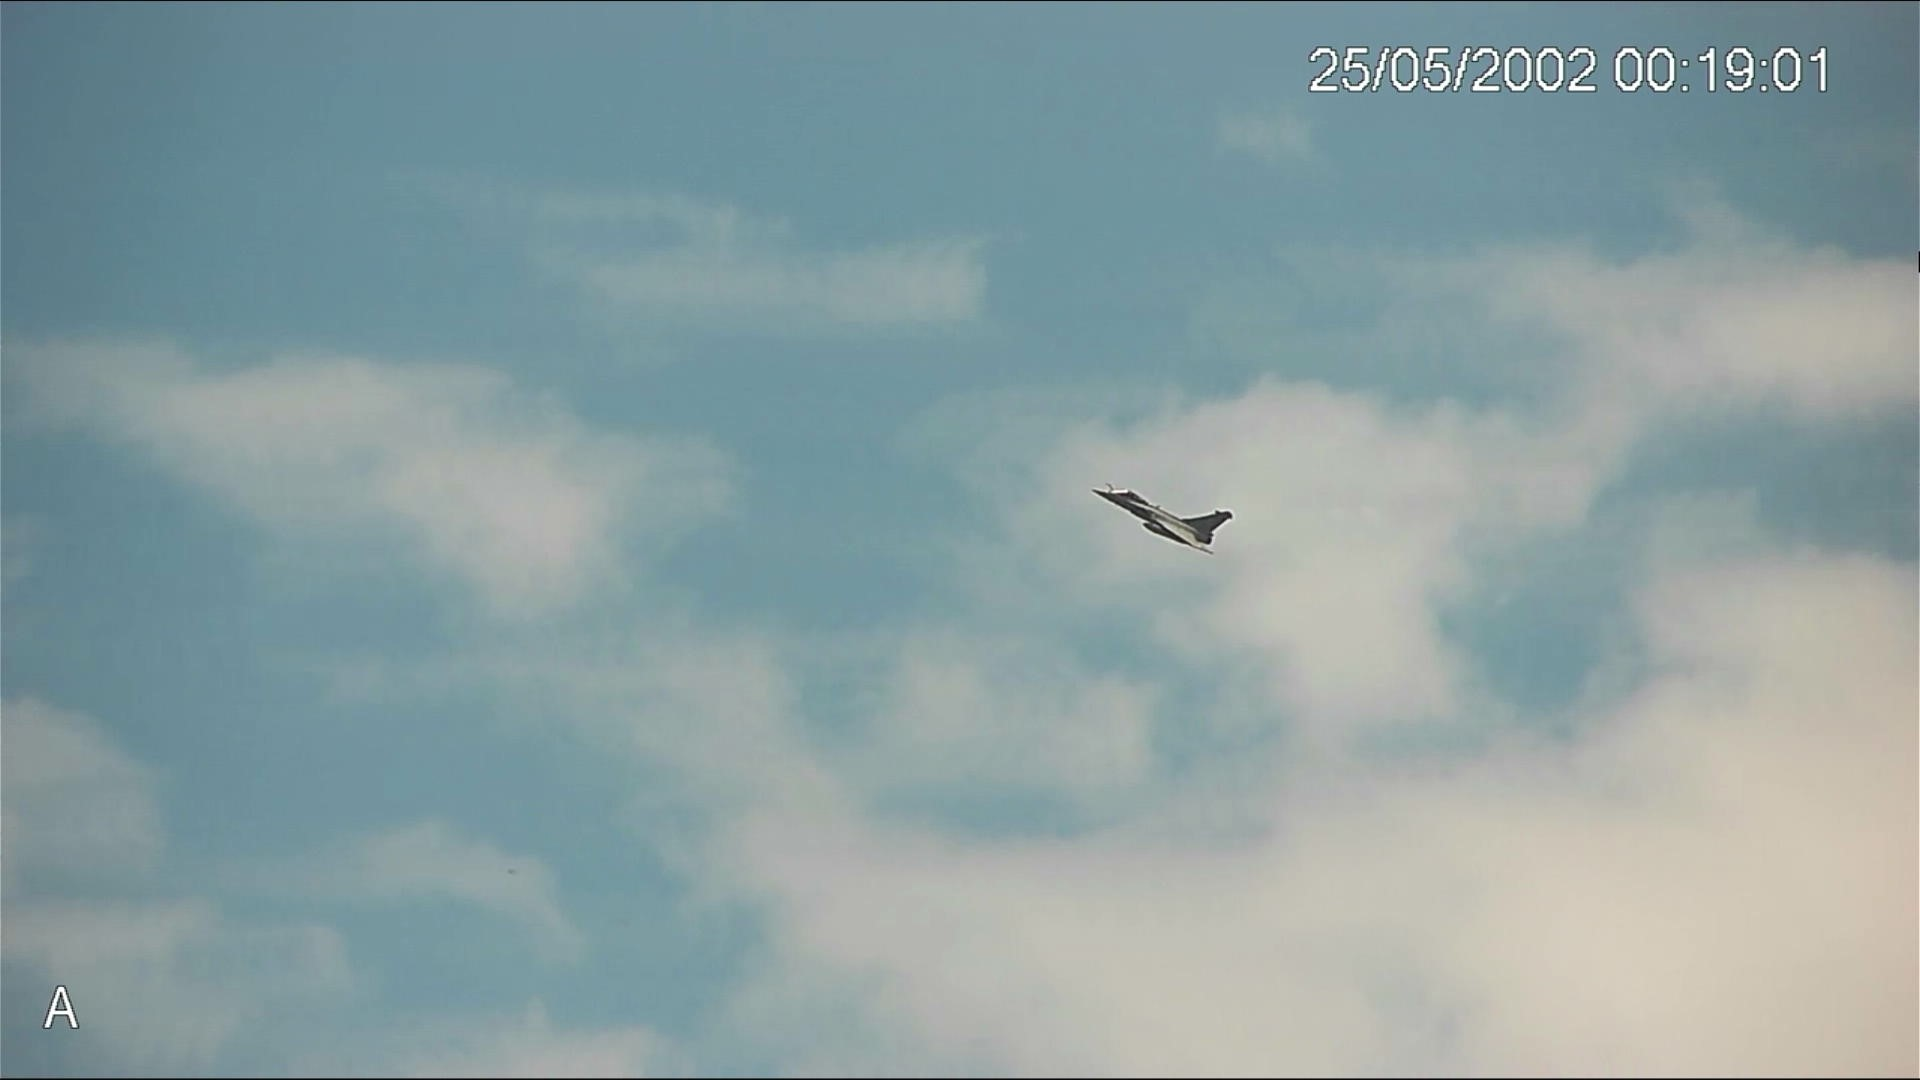SU_30: (1087, 475, 1240, 564)
